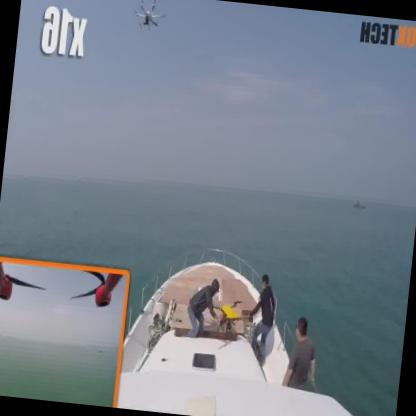drone: (125, 0, 170, 40)
